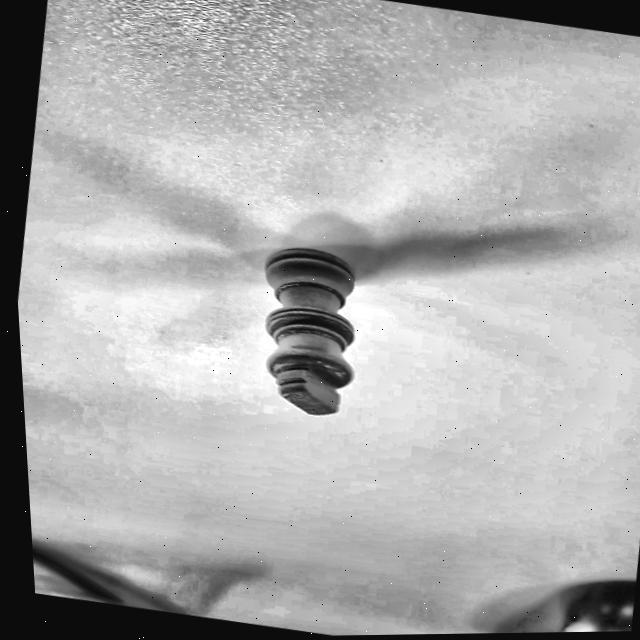black-king: (220, 231, 388, 431)
